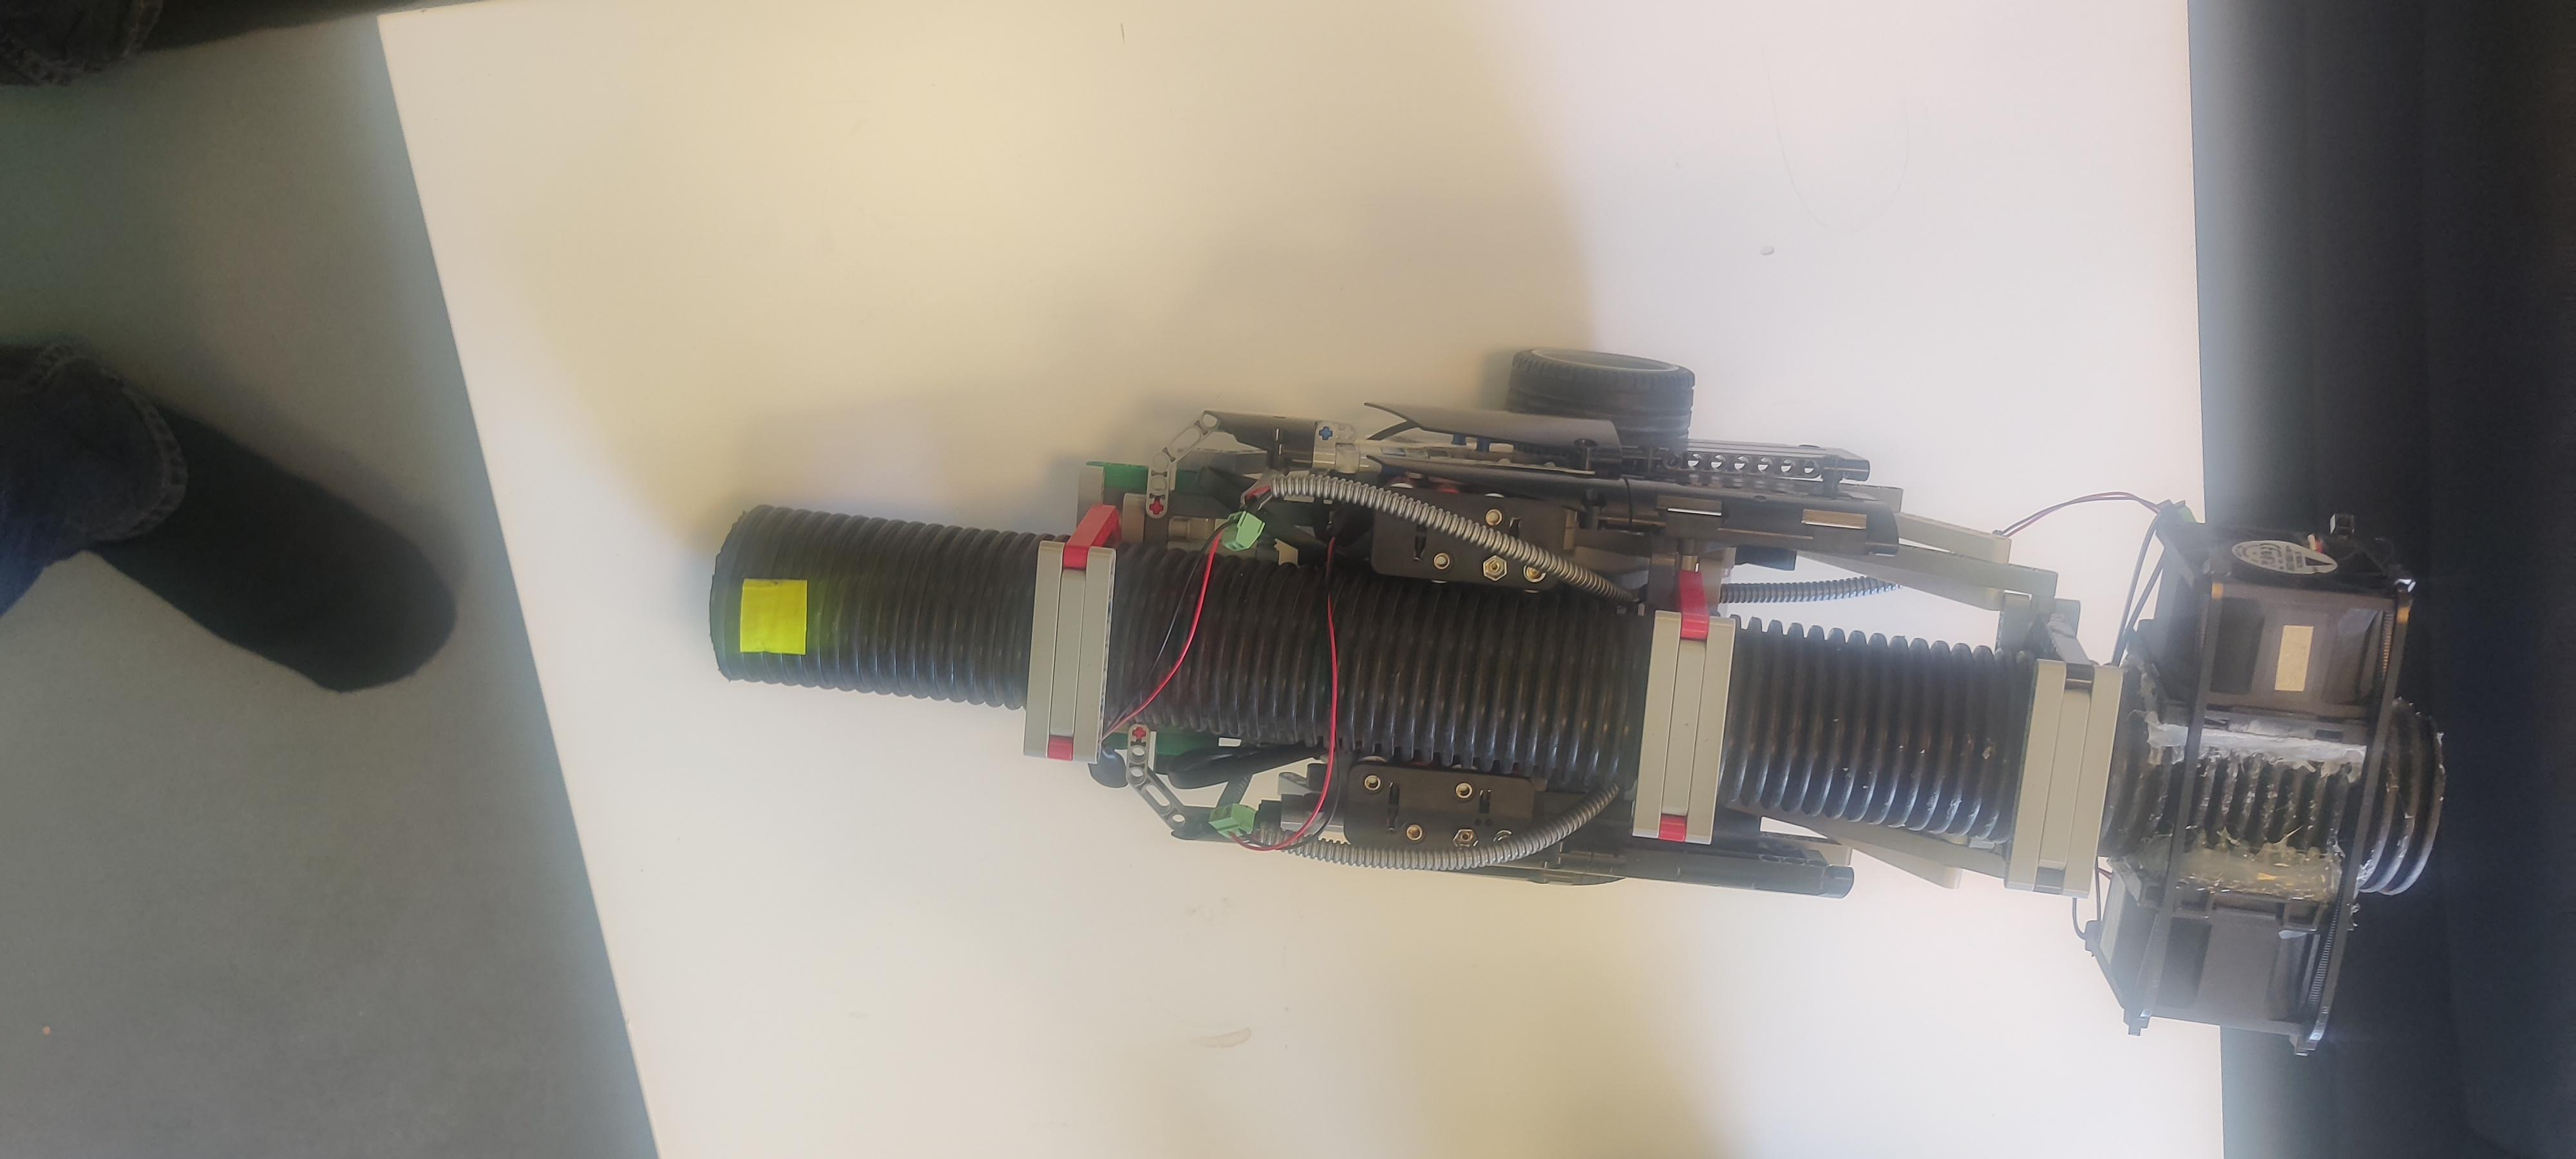robot: (705, 367, 2432, 1035)
robot-front: (712, 509, 1036, 706)
